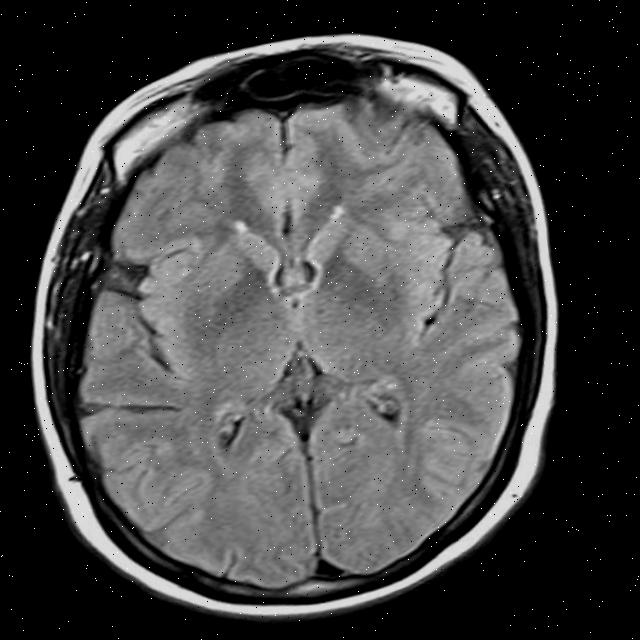NoTumor: (29, 53, 557, 638)
